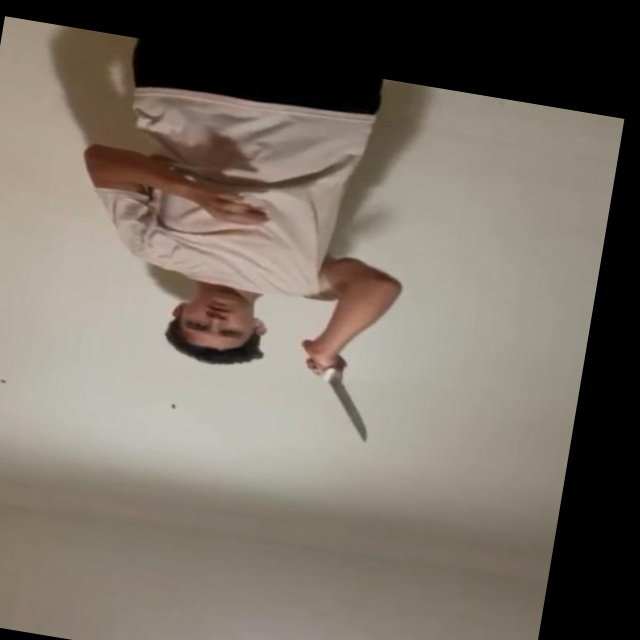Sharp-Object: (322, 371, 378, 443)
